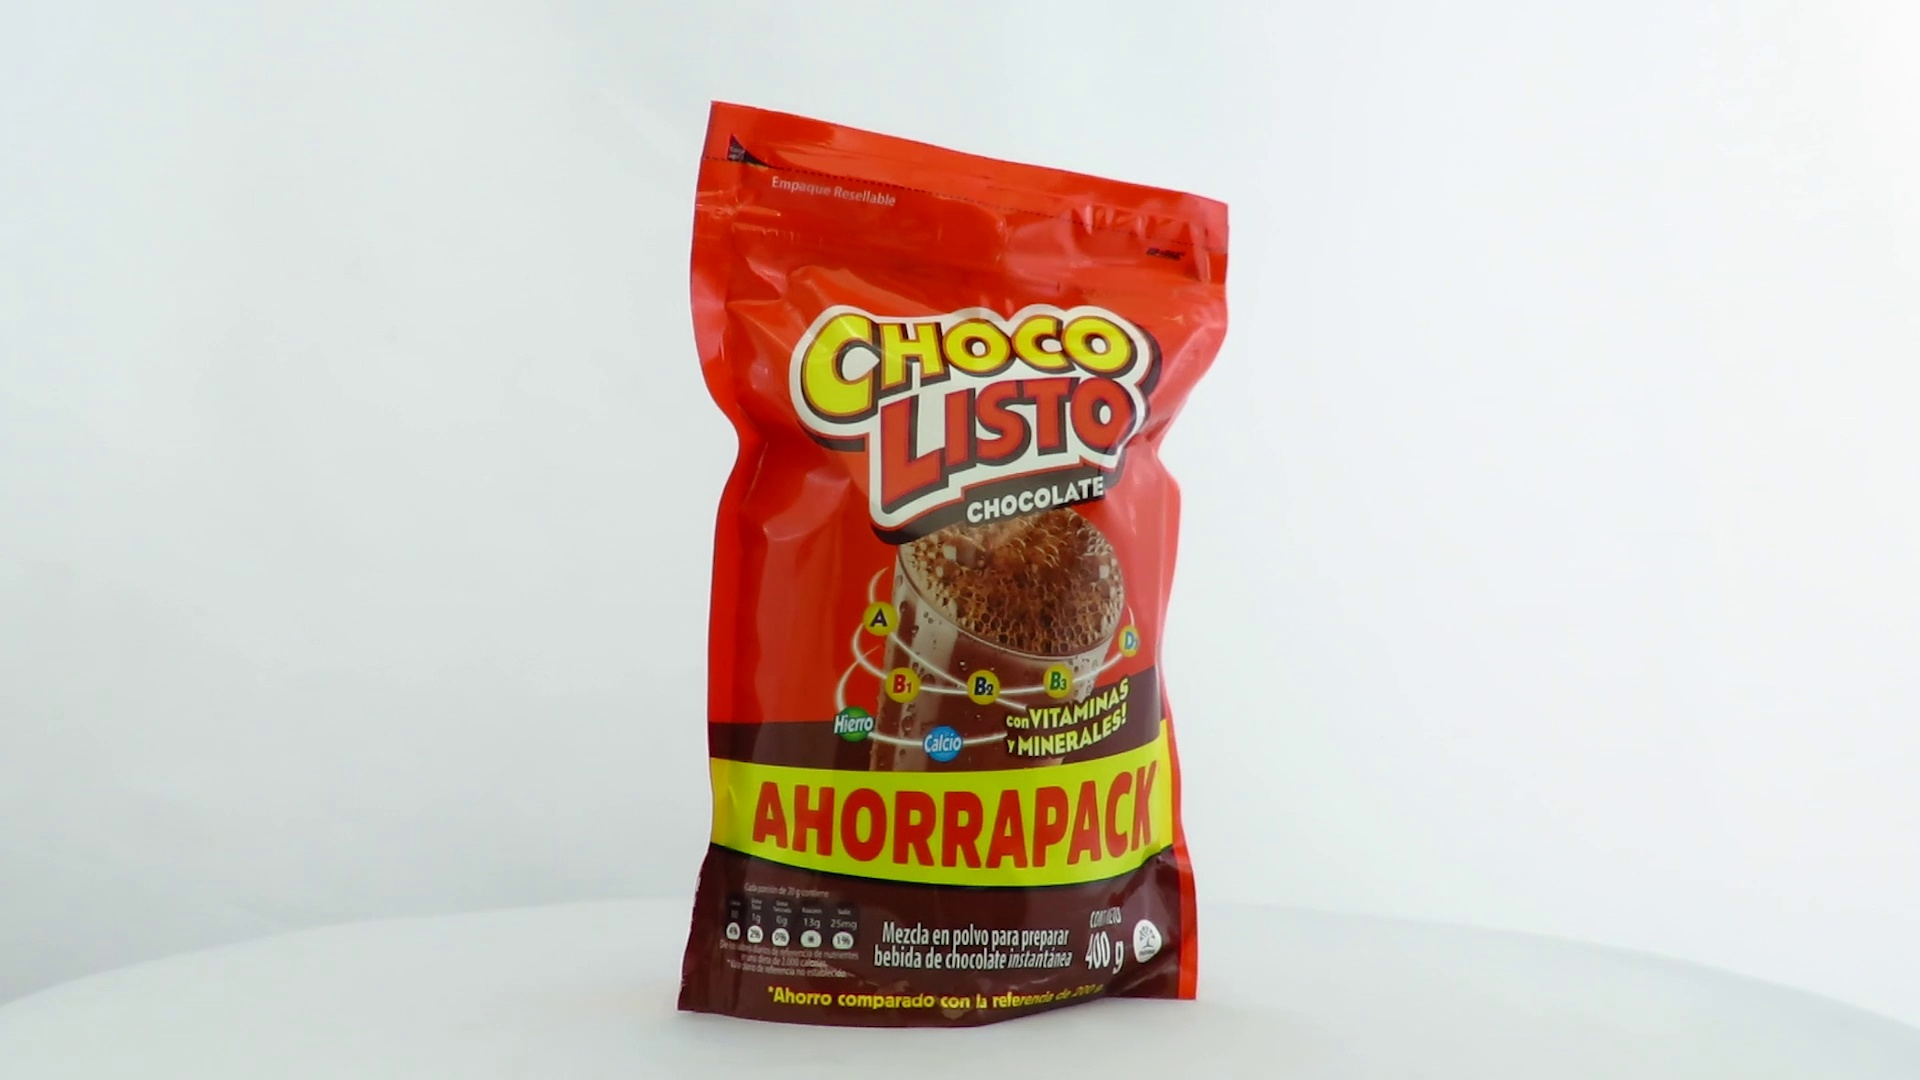COL0170103DYP40000: (673, 95, 1236, 1034)
